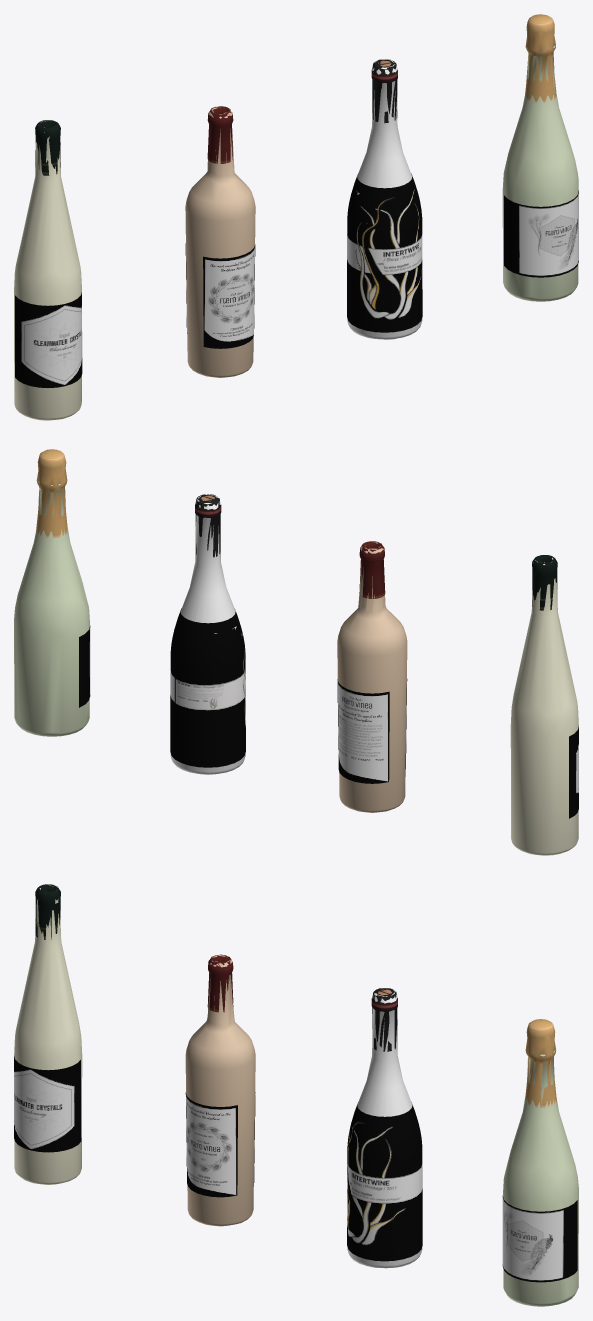
File: wine_bottles_01.glb
3 renders of one model, top to bottom at view 1: azimuth 30°, elevation 25°; view 2: azimuth 150°, elevation 25°; view 3: azimuth 330°, elevation 25°, orthographic.
Visible parts, largest first — view 1: wine_bottles_01_bordeaux, wine_bottles_01_burgundy, wine_bottles_01_alsace, wine_bottles_01_champagne; view 2: wine_bottles_01_bordeaux, wine_bottles_01_burgundy, wine_bottles_01_champagne, wine_bottles_01_alsace; view 3: wine_bottles_01_bordeaux, wine_bottles_01_burgundy, wine_bottles_01_alsace, wine_bottles_01_champagne.
Boxes of the visible parts, x1,y1,x2,y2 form: wine_bottles_01_bordeaux: (14, 14, 578, 420); wine_bottles_01_burgundy: (347, 173, 422, 332); wine_bottles_01_alsace: (15, 292, 82, 387); wine_bottles_01_champagne: (504, 190, 578, 277); wine_bottles_01_bordeaux: (14, 449, 578, 855); wine_bottles_01_burgundy: (170, 608, 245, 767); wine_bottles_01_champagne: (79, 626, 90, 707); wine_bottles_01_alsace: (569, 727, 578, 818); wine_bottles_01_bordeaux: (14, 884, 578, 1306); wine_bottles_01_burgundy: (347, 1102, 422, 1261); wine_bottles_01_alsace: (14, 1056, 81, 1152); wine_bottles_01_champagne: (502, 1196, 577, 1282).
Bounding box in the file's own units: 0.6763 × 0.3314 × 0.0805.
Materials: 9 (6 with a texture image).
